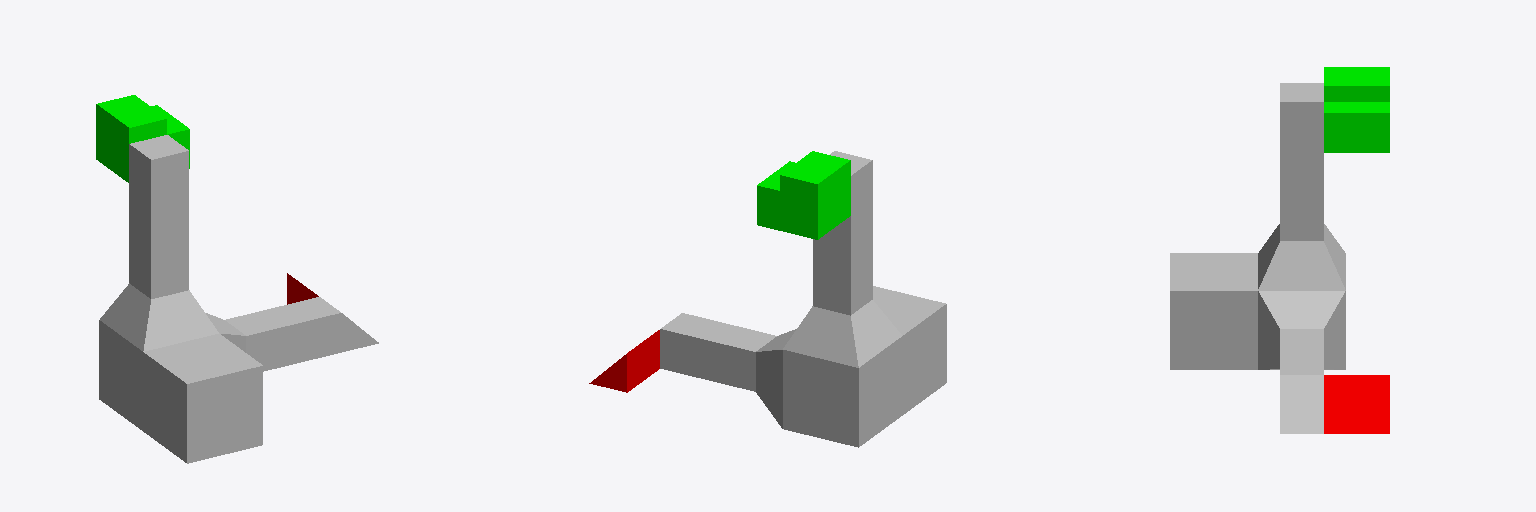
The model's file is DemoTool.obj.
3 renders of one model, left to right at view 1: azimuth 30°, elevation 25°; view 2: azimuth 150°, elevation 25°; view 3: azimuth 270°, elevation 25°, orthographic.
Parts seen in each view (by area): view 1: Tool; view 2: Tool; view 3: Tool.
Part boxes in pixels (x1,y1,x2,y2): Tool: (96, 95, 378, 463); Tool: (589, 151, 946, 447); Tool: (1170, 67, 1389, 433).
Bounding box in the file's own units: 0.65 × 0.69 × 0.5.